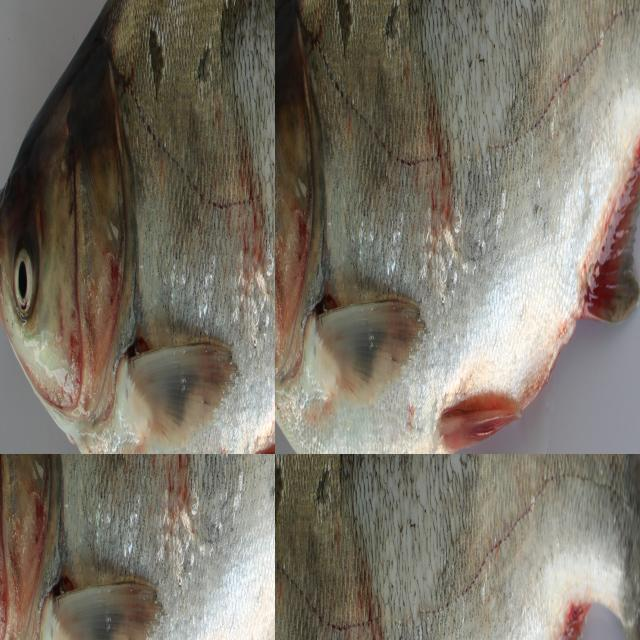fish: (275, 454, 640, 640)
